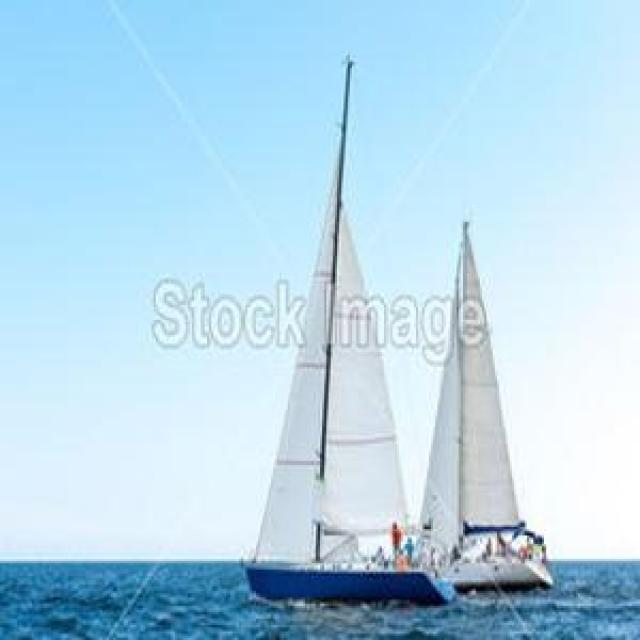sailboat: (254, 52, 450, 604), (417, 216, 554, 587)
